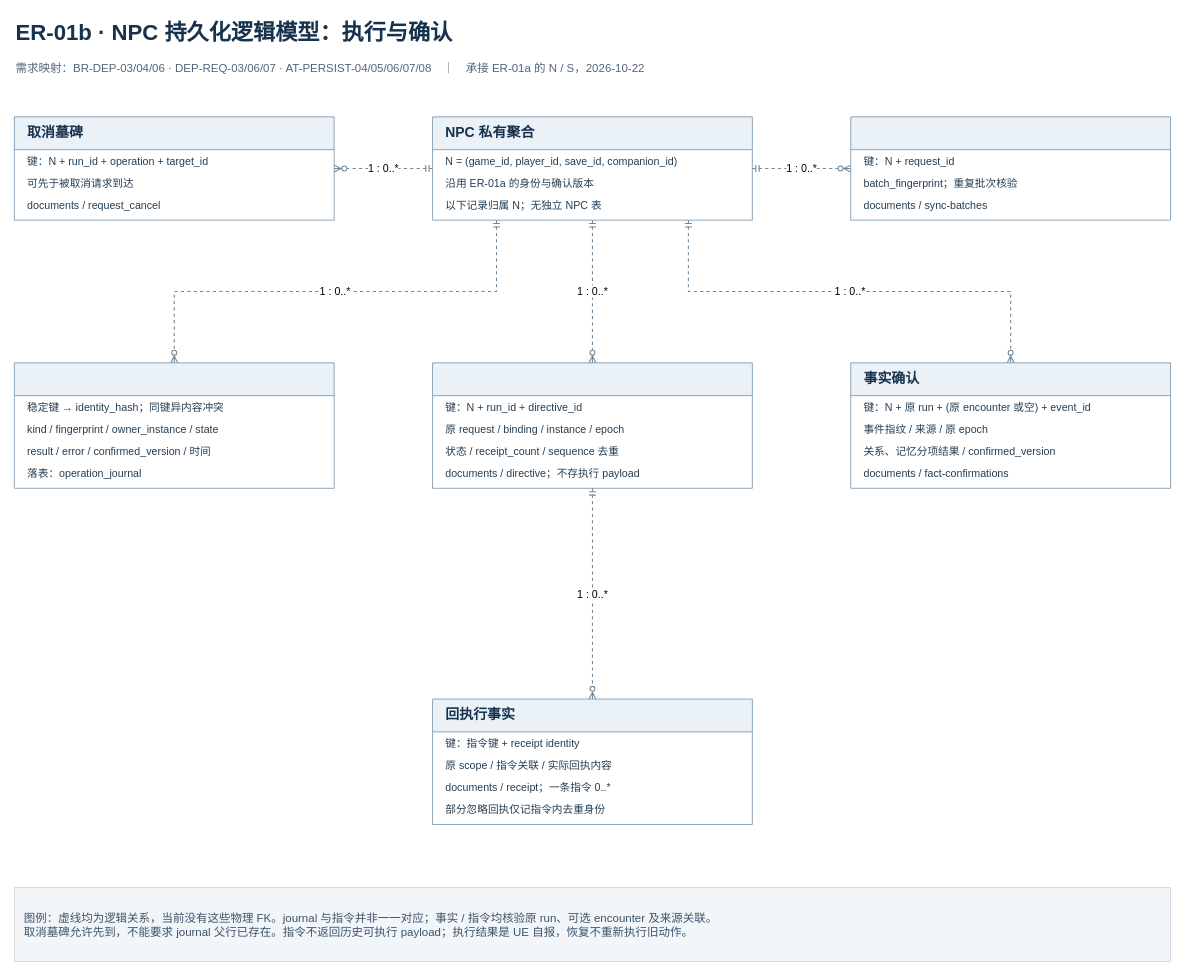
The diagram is 1201 pixels wide and 976 high, and some of its shapes have lost their labels. The shapes that lost their labels are listed below. From the top down, each one's box as (x1, y1, x2, y2) in pixels, then its label:
(850, 116, 1171, 220): 同步批次身份
(14, 362, 334, 488): 请求 / 事件日志
(432, 362, 752, 488): 指令关联
